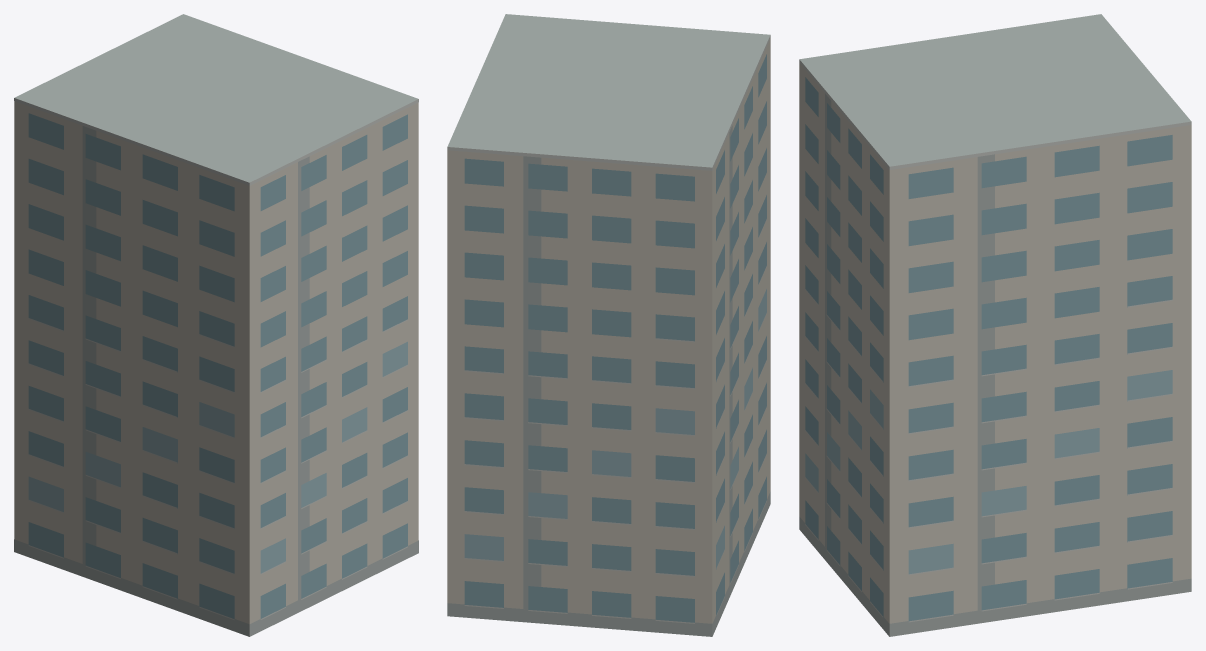
The model's file is residential-8e89a6c1-ea23-4317-b386-49ecccec1d6b.glb.
3 views of the same model, side by side, from view 1: azimuth 30°, elevation 25°; view 2: azimuth 150°, elevation 25°; view 3: azimuth 270°, elevation 25° (orthographic). The views are drawn at different scales.
Visible parts, largest first — view 1: residential-8e89a6c1-ea23-4317-b386-49ecccec1d6b.tmp; view 2: residential-8e89a6c1-ea23-4317-b386-49ecccec1d6b.tmp; view 3: residential-8e89a6c1-ea23-4317-b386-49ecccec1d6b.tmp.
Part boxes in pixels (left/top/right/bottom): residential-8e89a6c1-ea23-4317-b386-49ecccec1d6b.tmp: left=14, top=14, right=418, bottom=636; residential-8e89a6c1-ea23-4317-b386-49ecccec1d6b.tmp: left=447, top=14, right=770, bottom=636; residential-8e89a6c1-ea23-4317-b386-49ecccec1d6b.tmp: left=799, top=14, right=1191, bottom=636.
Size of the model in its own units: 23.7 by 34 by 25.71.
